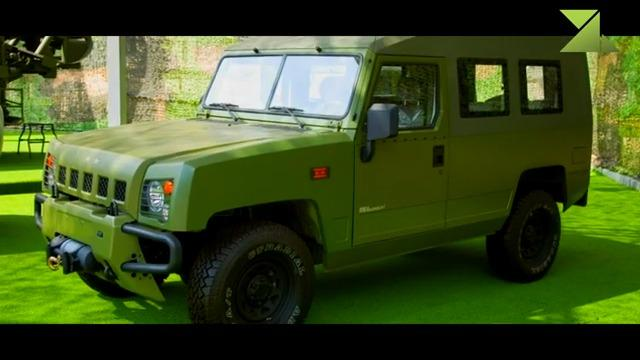MIL_HMMWV: (34, 36, 594, 325)
